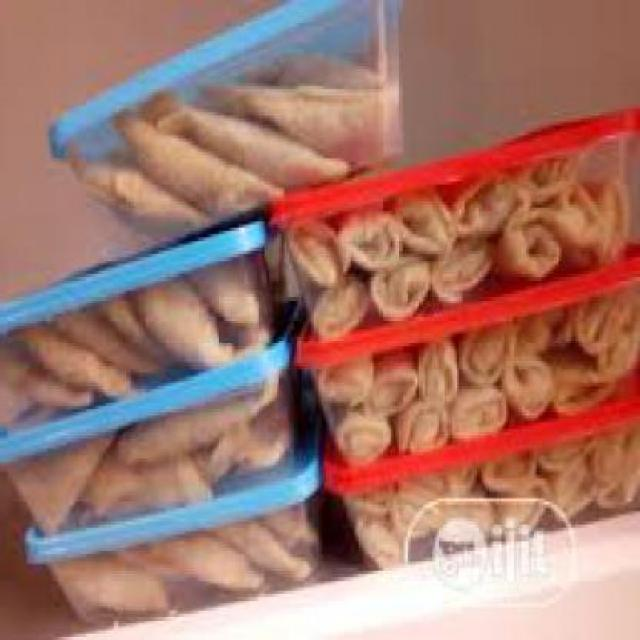samosa: (2, 224, 282, 624), (81, 27, 408, 238)
